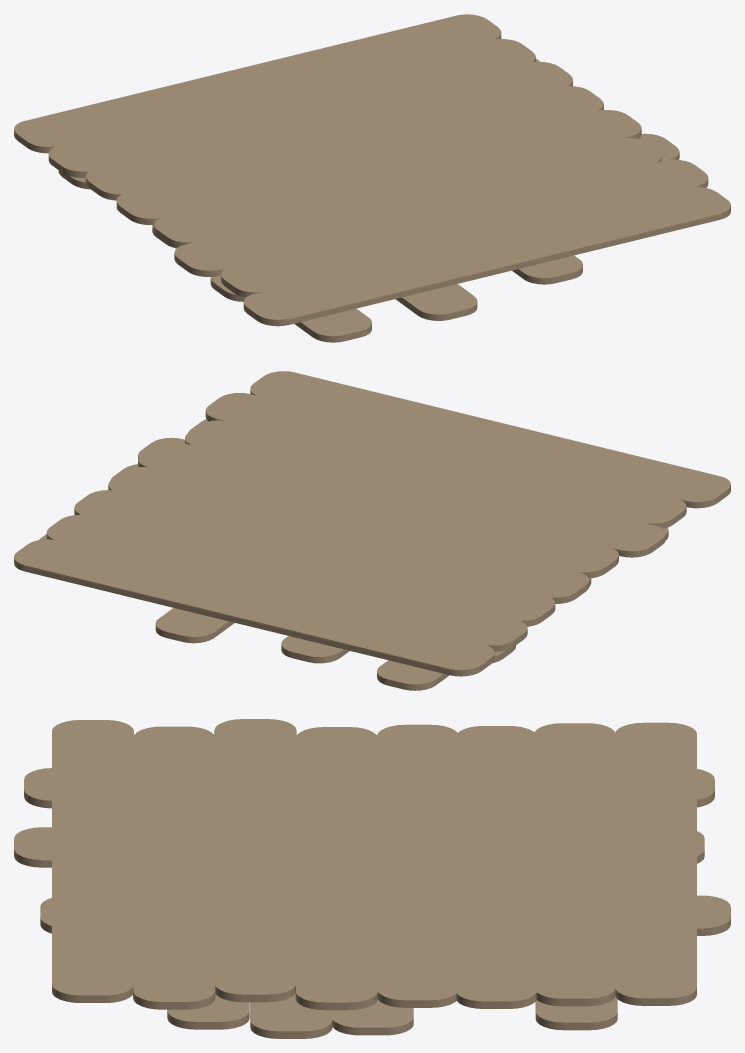
The model's file is planks.fbx.
3 views of the same model, one above another, from view 1: azimuth 30°, elevation 25°; view 2: azimuth 150°, elevation 25°; view 3: azimuth 270°, elevation 25° (orthographic). The views are drawn at different scales.
Visible parts, largest first — view 1: floorboard01, floorboard04, floorboard08, floorboard05, floorboard03, floorboard02, floorboard07, floorboard06, floorboard10, floorboard09, floorboard11, floorboard13; view 2: floorboard08, floorboard01, floorboard03, floorboard02, floorboard04, floorboard07, floorboard06, floorboard05, floorboard11, floorboard09, floorboard10; view 3: floorboard03, floorboard02, floorboard04, floorboard08, floorboard01, floorboard06, floorboard07, floorboard05, floorboard13, floorboard14, floorboard15, floorboard12 (+3 smaller).
Part boxes in pixels (box(x1,y1,x2,y2)): floorboard01: box(243, 187, 730, 326); floorboard04: box(154, 110, 641, 247); floorboard08: box(14, 14, 501, 153); floorboard05: box(116, 86, 603, 225); floorboard03: box(174, 138, 661, 276); floorboard02: box(221, 159, 708, 297); floorboard07: box(48, 39, 535, 177); floorboard06: box(85, 61, 572, 200); floorboard10: box(395, 284, 477, 320); floorboard09: box(294, 308, 371, 342); floorboard11: box(512, 255, 582, 284); floorboard13: box(639, 133, 679, 161); floorboard08: box(14, 539, 494, 676); floorboard01: box(250, 371, 730, 508); floorboard03: box(185, 420, 665, 557); floorboard02: box(205, 393, 686, 528); floorboard04: box(138, 441, 618, 578); floorboard07: box(46, 514, 527, 651); floorboard06: box(74, 490, 555, 626); floorboard05: box(108, 467, 589, 603); floorboard11: box(155, 608, 234, 643); floorboard09: box(377, 660, 449, 690); floorboard10: box(281, 636, 349, 663); floorboard03: box(214, 719, 296, 1002); floorboard02: box(133, 726, 215, 1009); floorboard04: box(295, 727, 377, 1010); floorboard08: box(615, 722, 696, 1005); floorboard01: box(52, 720, 133, 1002); floorboard06: box(455, 726, 537, 1008); floorboard07: box(534, 723, 615, 1006); floorboard05: box(377, 724, 458, 1007); floorboard13: box(250, 994, 332, 1038); floorboard14: box(332, 999, 413, 1035); floorboard15: box(535, 996, 617, 1030); floorboard12: box(167, 994, 249, 1029).
Bounding box in the file's own units: 8.98 × 0.4265 × 9.24.
